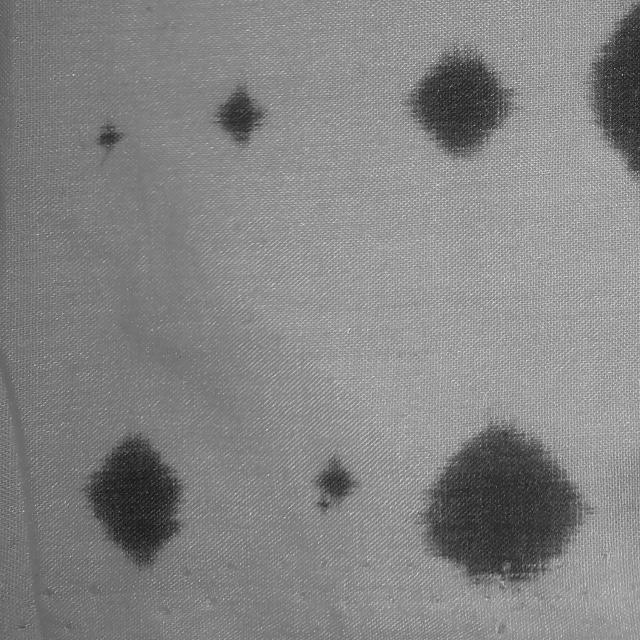Thread_other: (74, 406, 606, 602), (381, 29, 519, 182), (184, 70, 310, 180), (569, 0, 640, 189), (73, 96, 131, 174)
